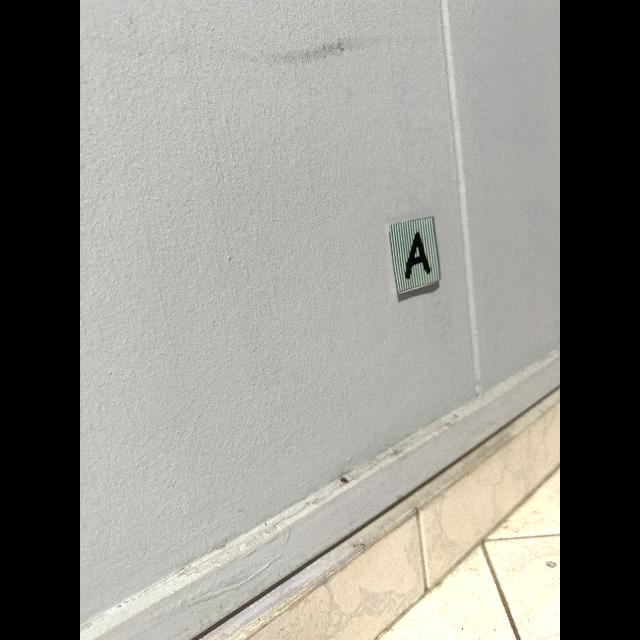A: (405, 230, 431, 280)
